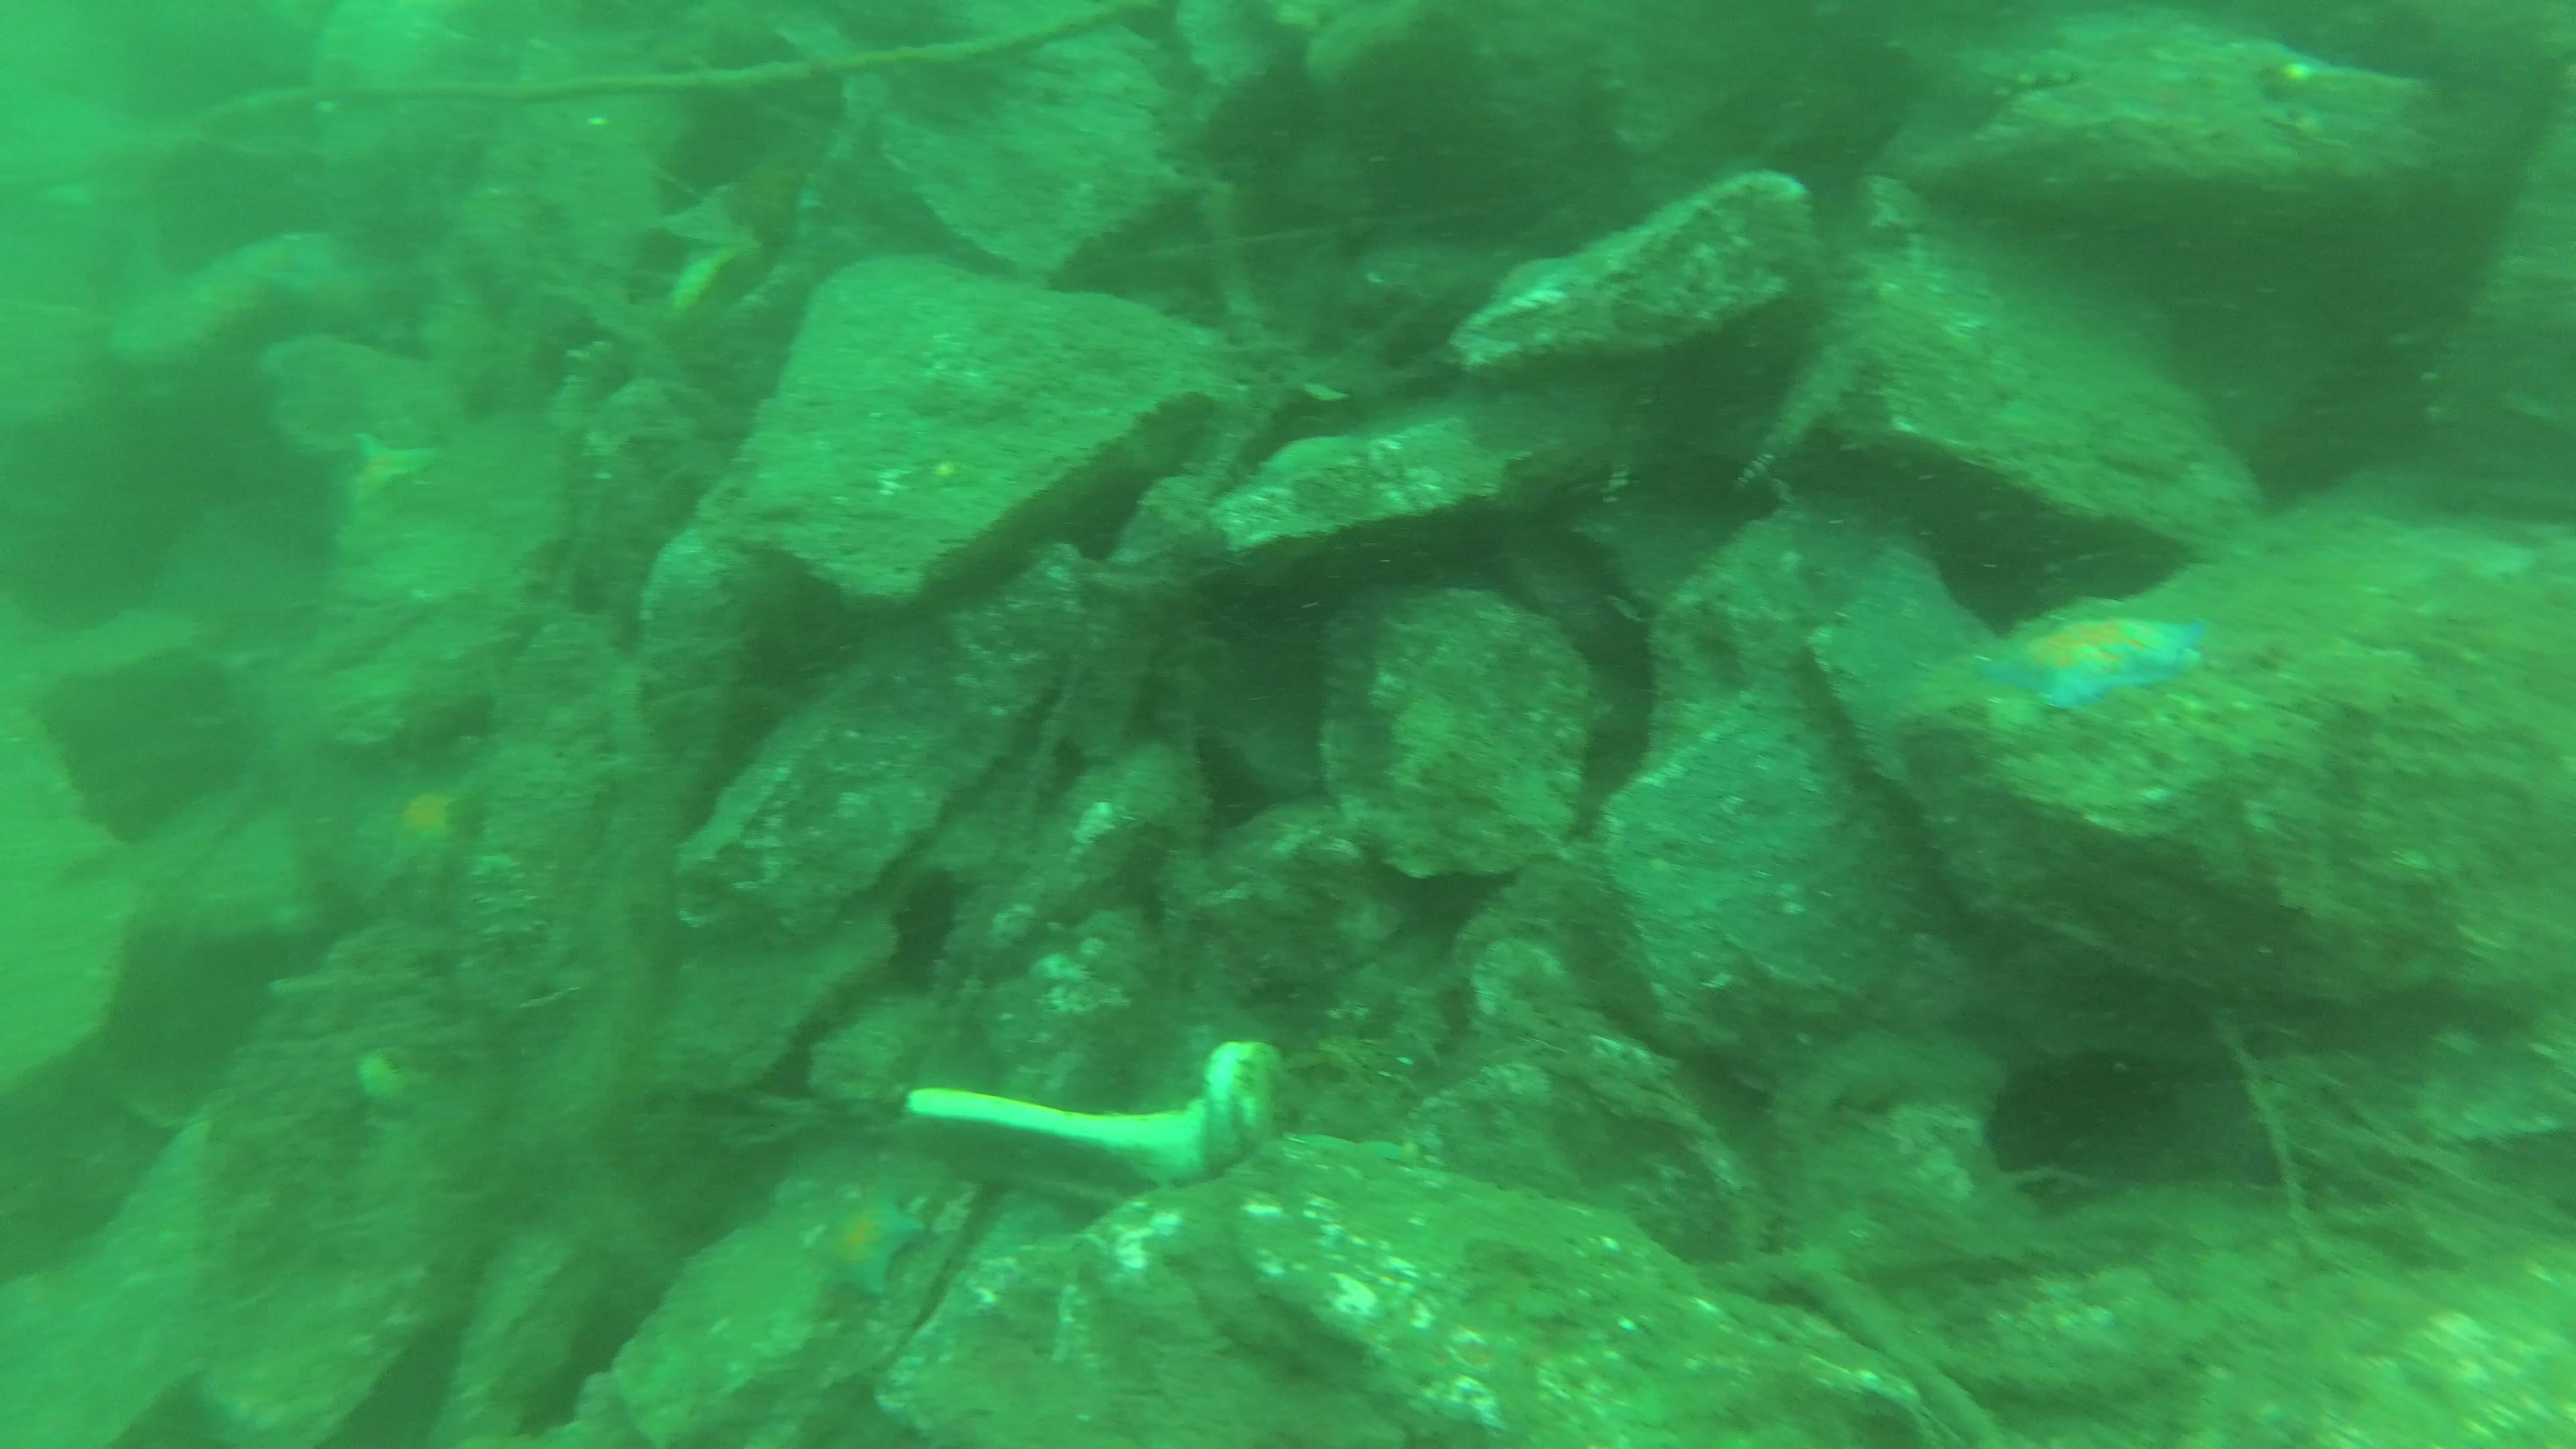holothurian: (467, 840, 550, 957)
starfish: (1948, 600, 2226, 717), (784, 1182, 943, 1304), (363, 777, 494, 892), (336, 433, 449, 525)
